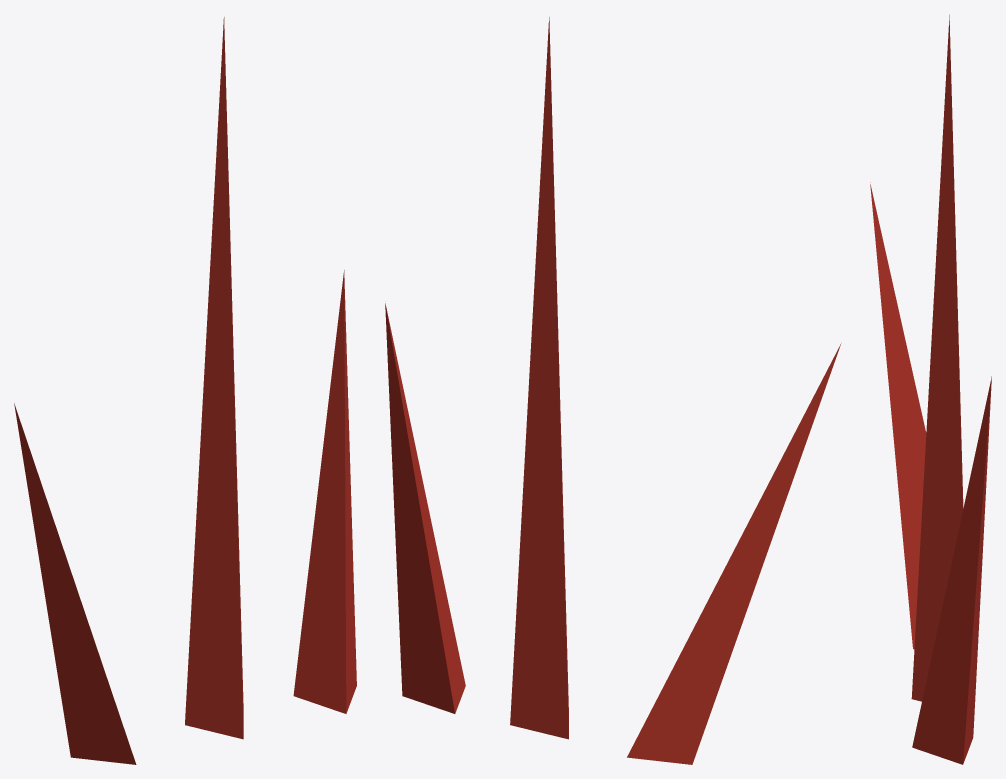
File: world_2_grass_2.dae
3 renders of one model, left to right at view 1: azimuth 30°, elevation 25°; view 2: azimuth 150°, elevation 25°; view 3: azimuth 270°, elevation 25°, orthographic. The views are drawn at different scales.
Visible parts, largest first — view 1: grass_2; view 2: grass_2; view 3: grass_2.
Part boxes in pixels (box(x1,y1,x2,y2)): grass_2: box(14, 17, 356, 764); grass_2: box(385, 17, 841, 764); grass_2: box(870, 14, 991, 764).
Bounding box in the file's own units: 0.2895 × 0.0806 × 0.5.
